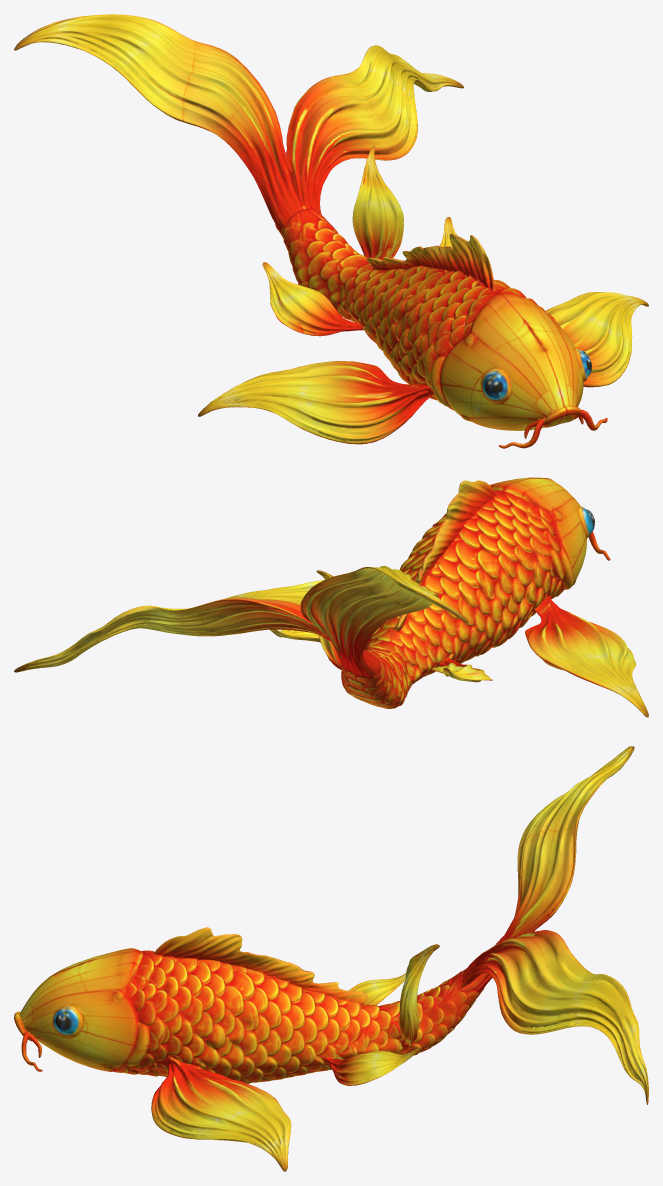
The model's file is fish.glb.
The picture shows the model from 3 angles, top to bottom: view 1: azimuth 30°, elevation 25°; view 2: azimuth 150°, elevation 25°; view 3: azimuth 270°, elevation 25°; orthographic projection. The views are drawn at different scales.
Bounding box in the file's own units: 1.49 × 0.8004 × 1.9.
Materials: 1 (1 with a texture image).
